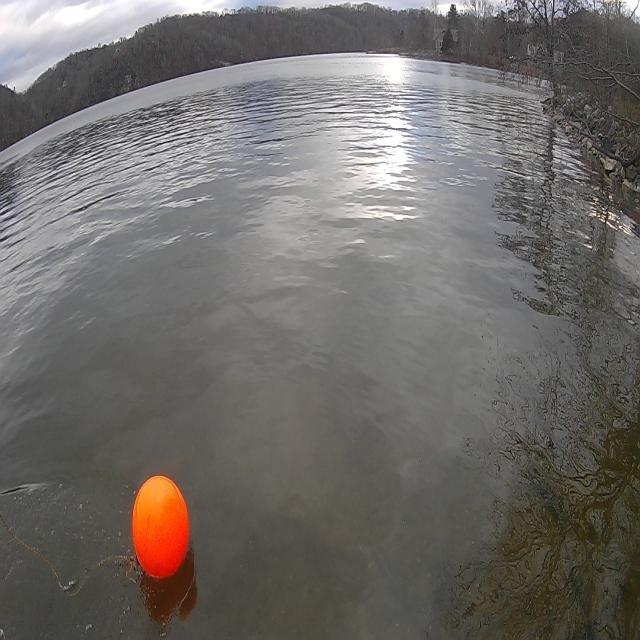Buoy: (127, 468, 194, 588)
